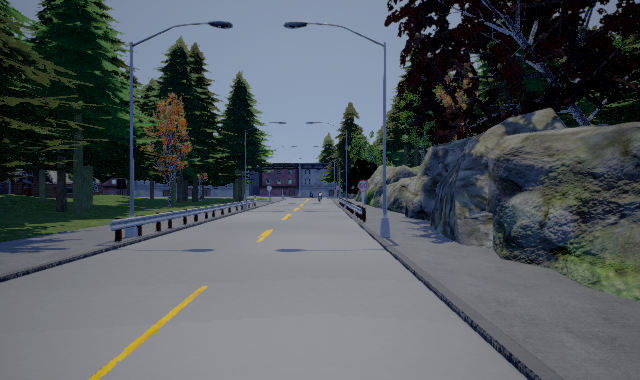traffic_sign: (357, 180, 369, 192)
